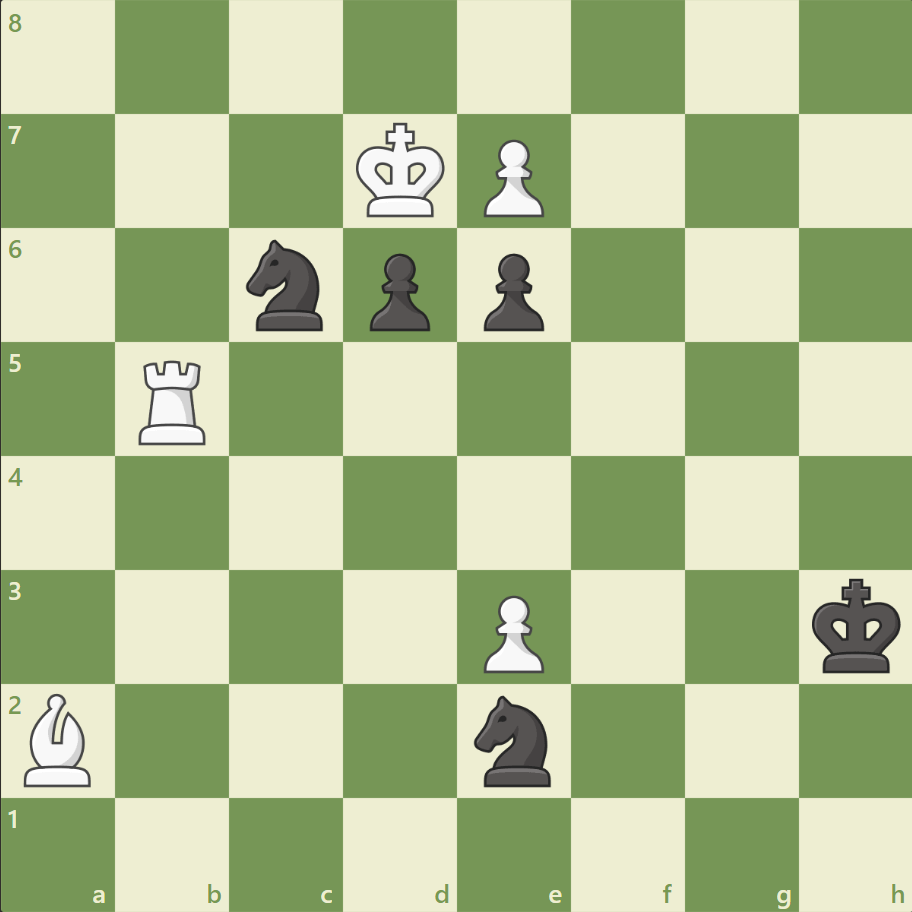B: (17, 687, 101, 790)
K: (351, 117, 451, 225)
P: (474, 132, 549, 223), (474, 586, 549, 677)
R: (133, 352, 215, 449)
k: (806, 571, 906, 679)
n: (238, 234, 335, 337), (465, 688, 562, 791)
p: (474, 246, 549, 337), (361, 246, 435, 337)
